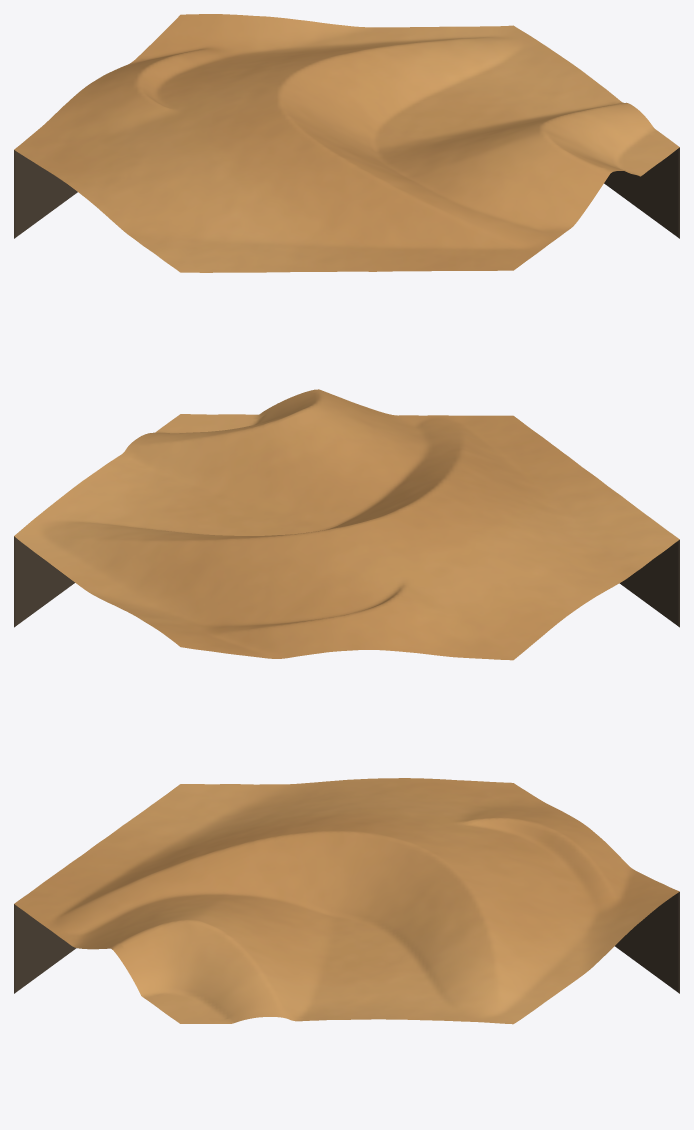
The picture shows the model from 3 angles, top to bottom: view 1: azimuth 30°, elevation 25°; view 2: azimuth 150°, elevation 25°; view 3: azimuth 270°, elevation 25°; orthographic projection.
Visible parts, largest first — view 1: terrain, hex_side_cut; view 2: terrain, hex_side_cut; view 3: terrain, hex_side_cut.
Part boxes in pixels (box(x1,y1,x2,y2)): terrain: box(14, 14, 679, 272); hex_side_cut: box(14, 147, 679, 238); terrain: box(14, 389, 679, 660); hex_side_cut: box(14, 536, 679, 627); terrain: box(14, 778, 679, 1024); hex_side_cut: box(14, 892, 679, 993).
Size of the model in its own units: 4330 by 1113 by 5000.
